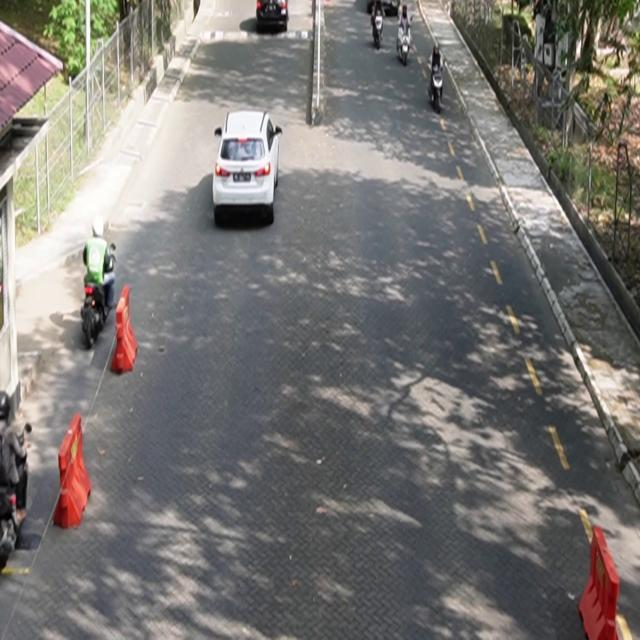car: (214, 110, 284, 226), (256, 1, 289, 32)
